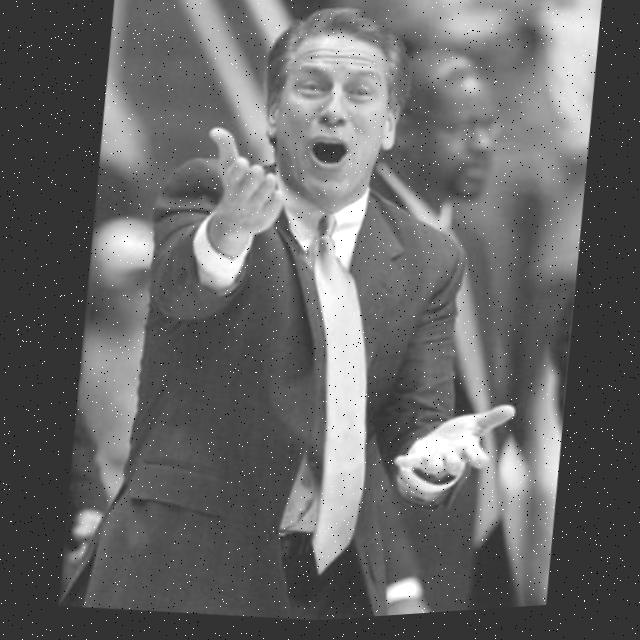face: (247, 20, 419, 218)
